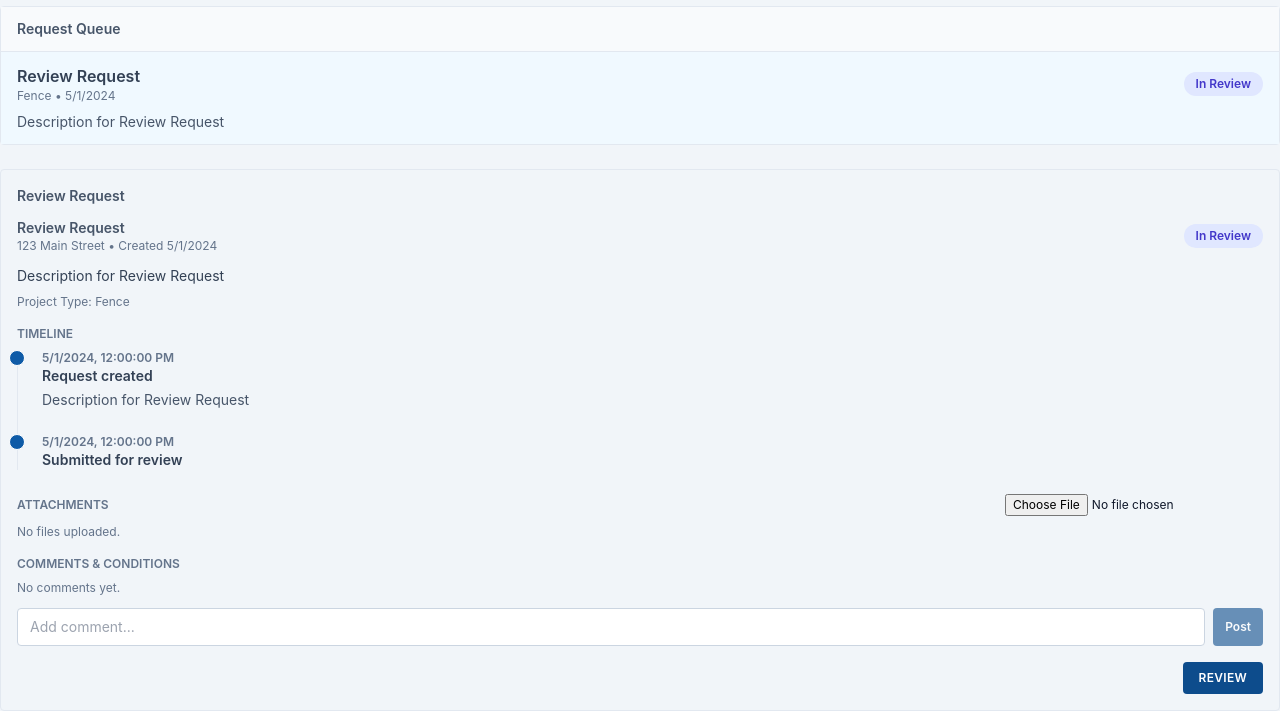
Test case: ARCPage › uses the submit label for reviewer notes
This screenshot has width=1280, height=711.
(page scrolled)
Step 1. Click the button "Review" → (1223, 678), box x1=1182 y1=662 x2=1263 y2=694
(page scrolled)
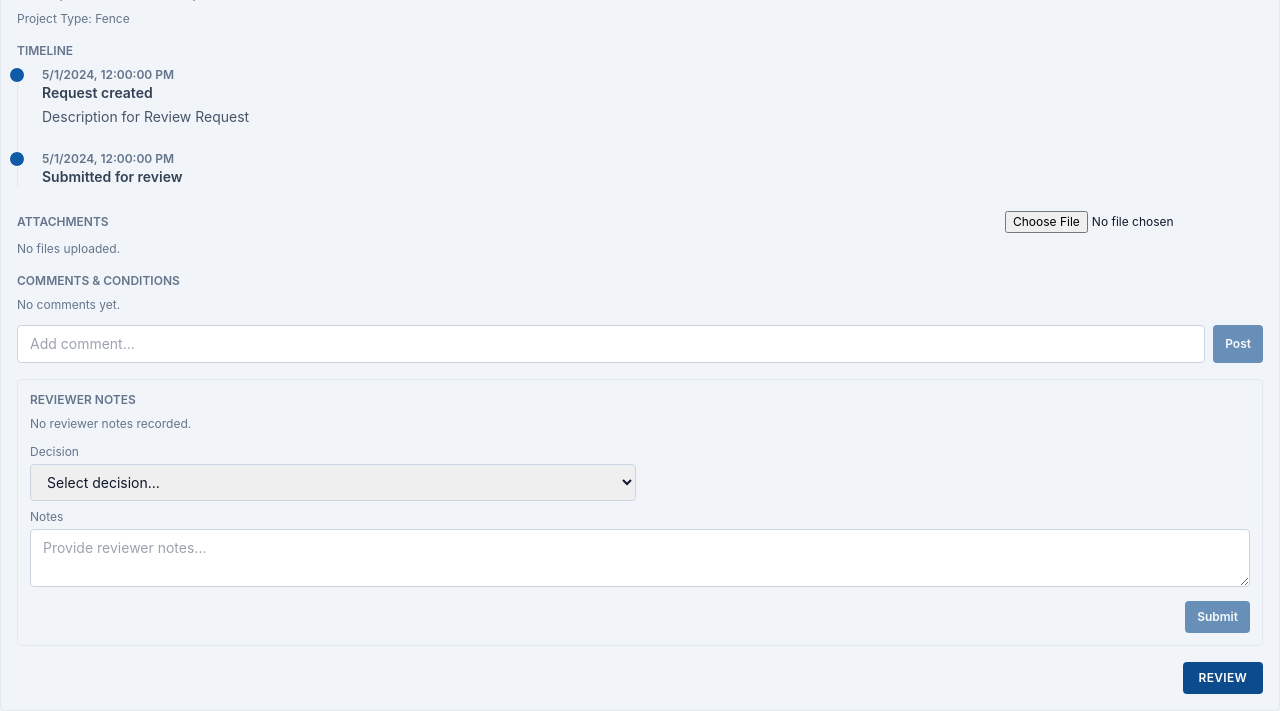
Result: the button "Submit" is shown at x1=1185 y1=601 x2=1250 y2=633
